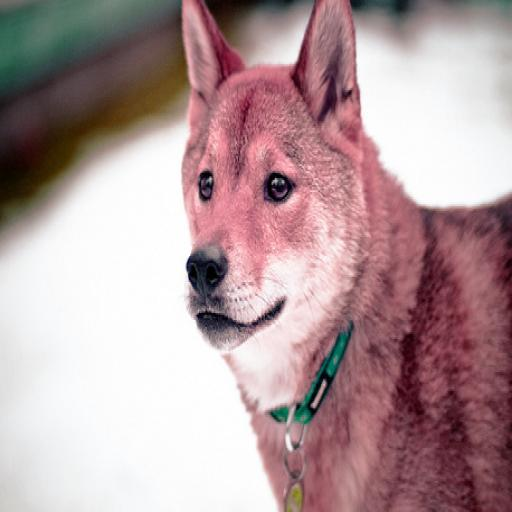dog_face: (172, 0, 358, 365)
